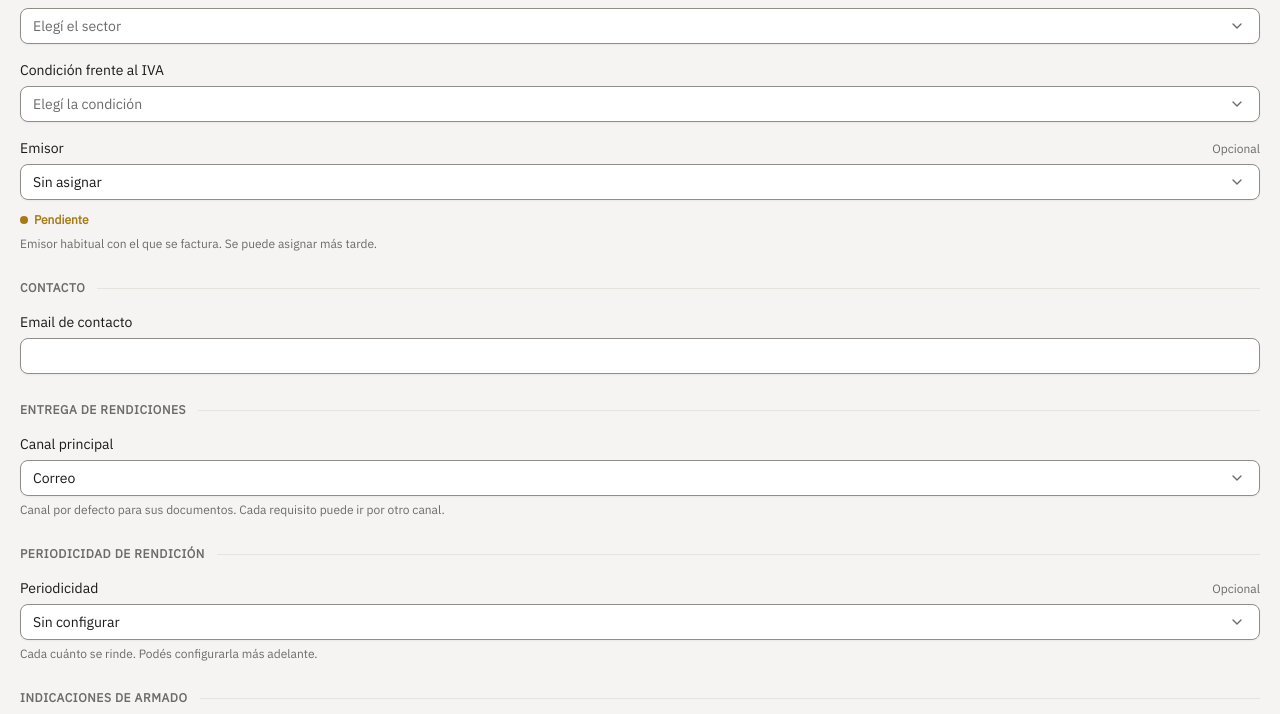
Test: ClienteForm: antes del primer envío › un campo con contenido de formato inválido se valida al salir, y solo ese
The width and height of the screenshot is (1280, 714).
(page scrolled)
Type "no-es-un-email" into the field labelled "Email de contacto" at (640, 356), box [20,338,1260,374]
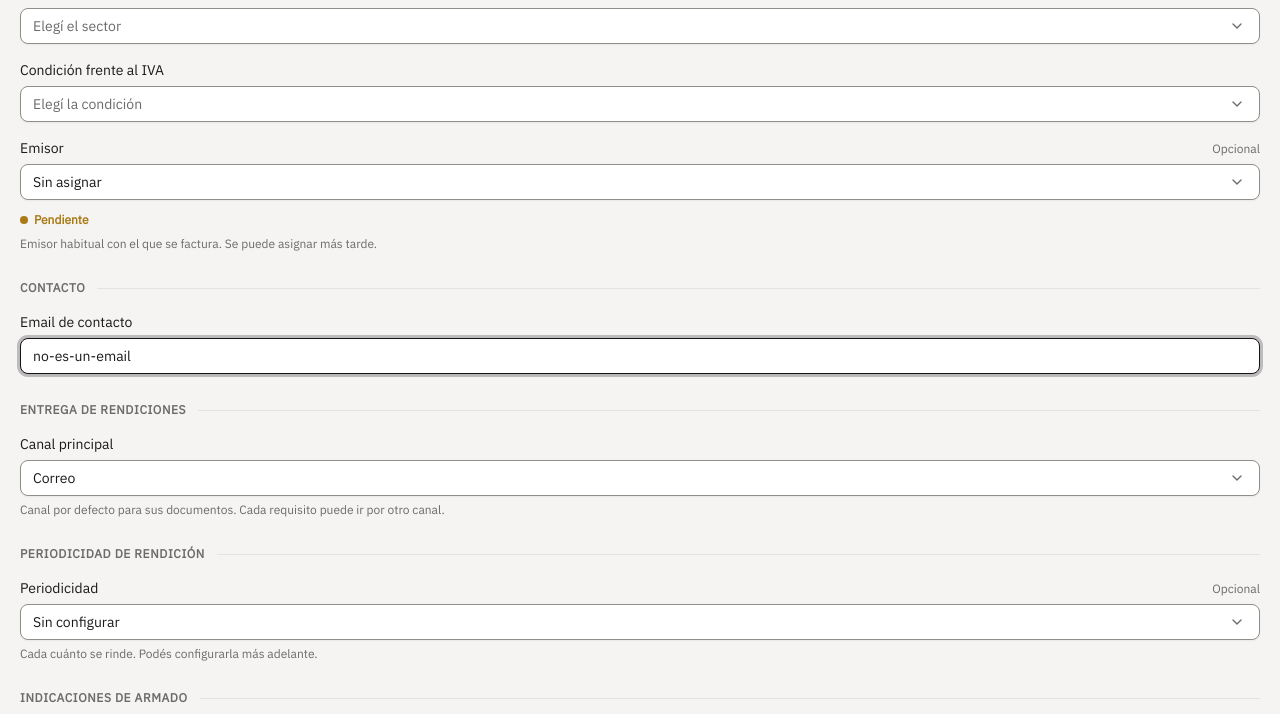
Expected: the text "El email de contacto no tiene un formato válido." is not shown
Press Tab
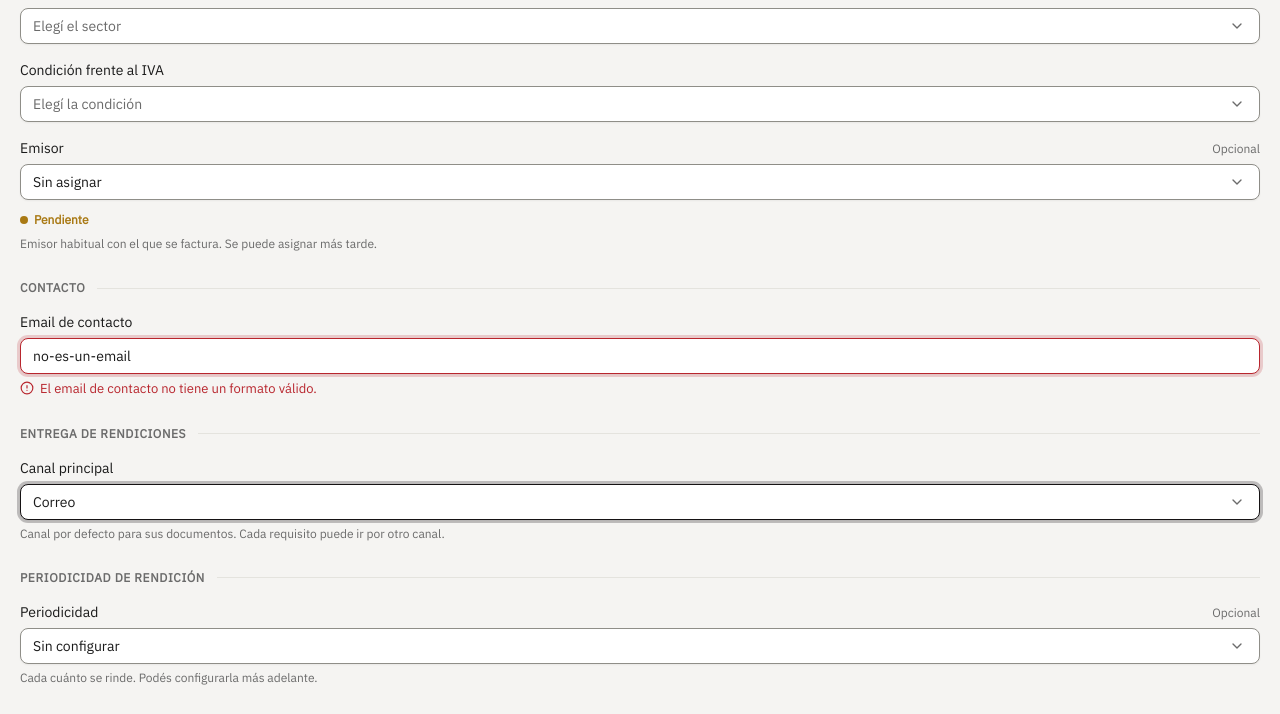
Expected: the text "El email de contacto no tiene un formato válido." is shown, [20,380,317,397]
